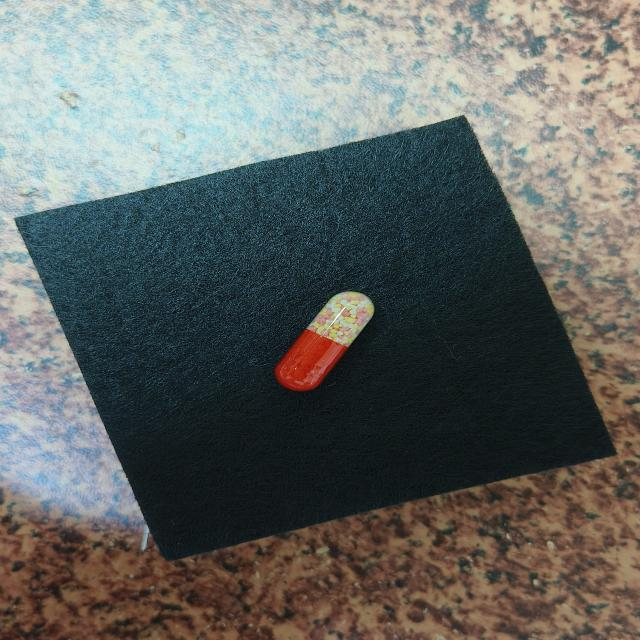Intact Capsule: (275, 291, 375, 391)
